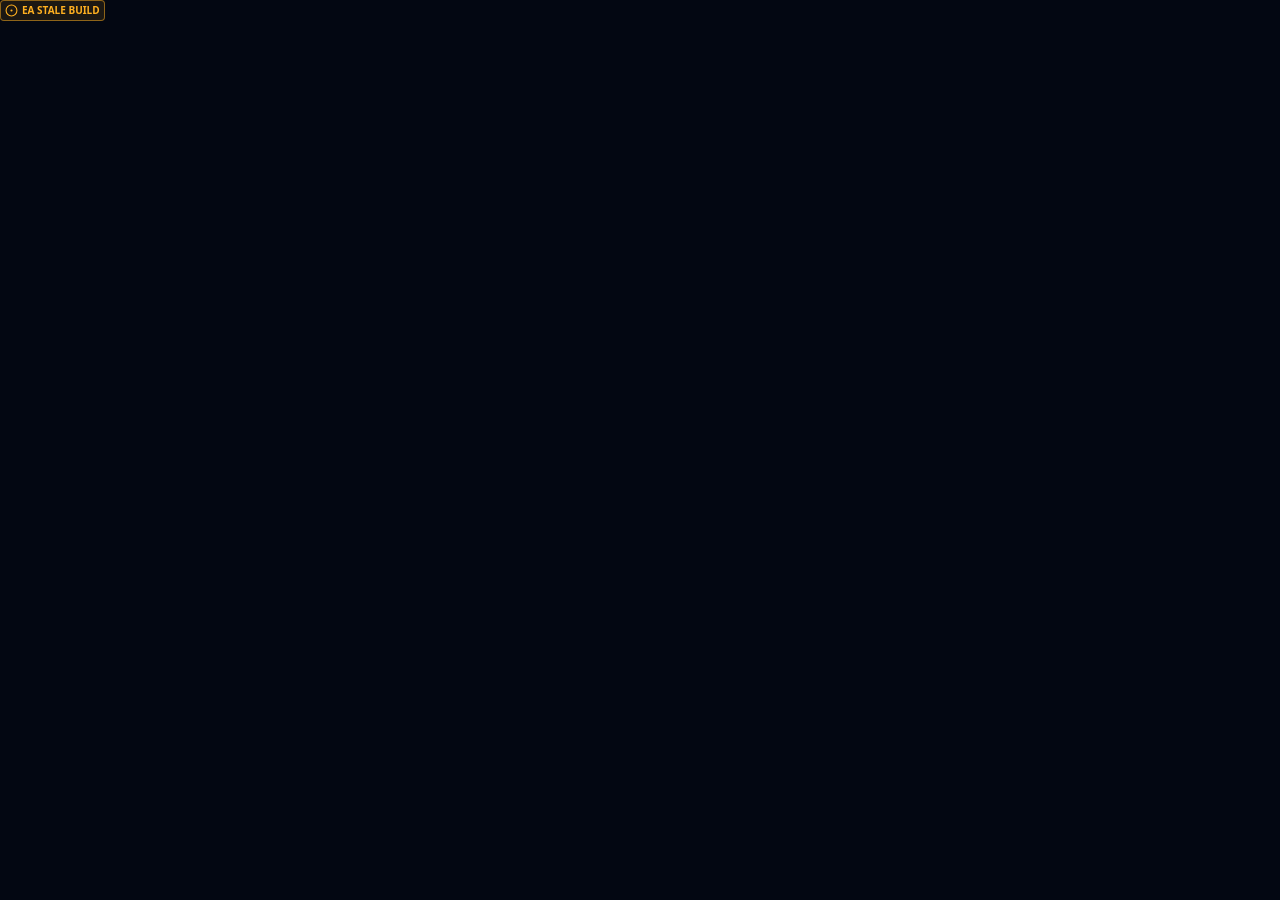
the popup › promises a one-click install when a compiled build is shipped
The image size is (1280, 900).
Click the button "EA STALE BUILD" at (52, 10), box [0,0,105,21]
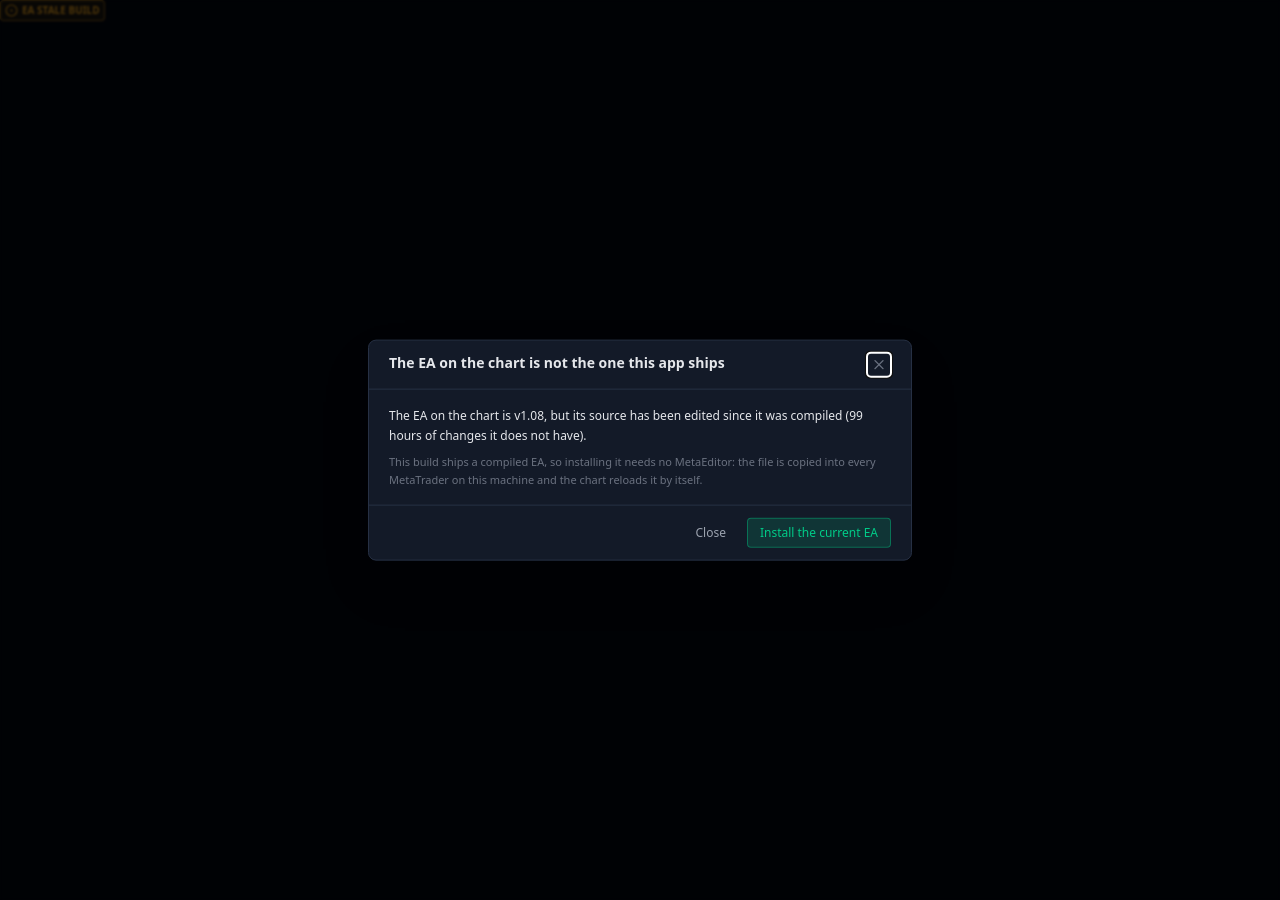
Now the text "no MetaEditor" is shown, box [389,454,876,486]
